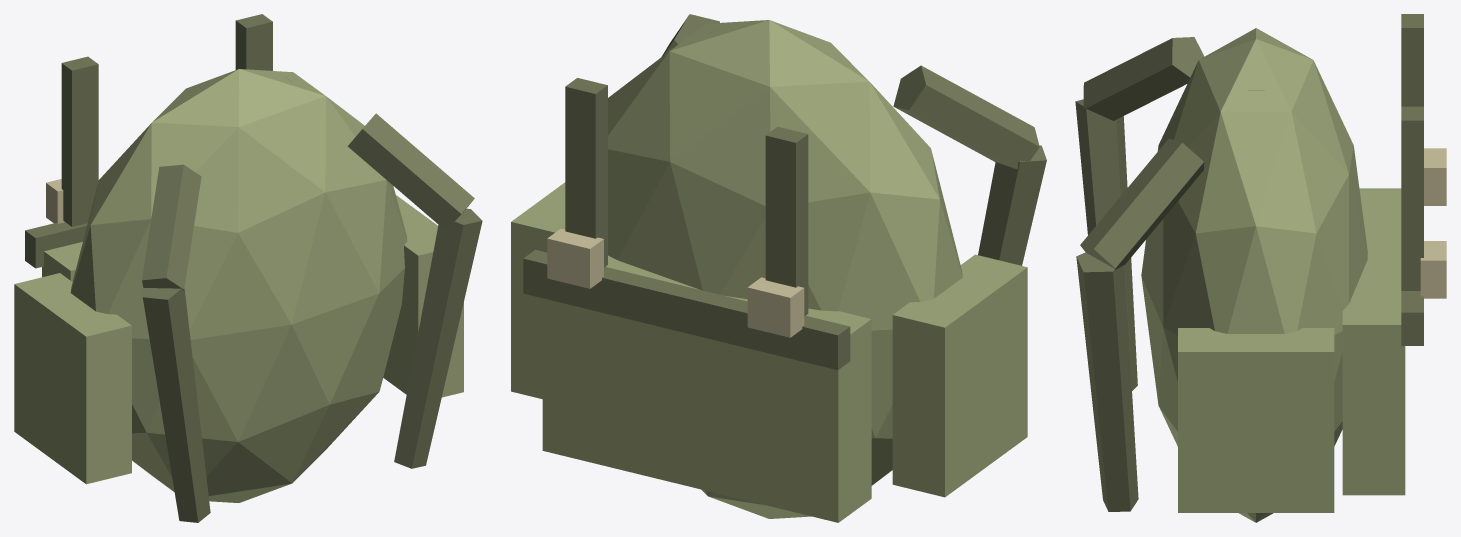
The model's file is Backpack.fbx.
The picture shows the model from 3 angles, left to right: view 1: azimuth 30°, elevation 25°; view 2: azimuth 150°, elevation 25°; view 3: azimuth 270°, elevation 25°; orthographic projection. The views are drawn at different scales.
Parts seen in each view (by area): view 1: BackpackBody, SidePocket.001, ShoulderLoop, ShoulderLoop.001, FrontStrap.001, SidePocket, ShoulderTop, ShoulderTop.001, FrontStrap, PocketFlap, FrontPocket, Buckle.001; view 2: BackpackBody, FrontPocket, SidePocket.001, PocketFlap, ShoulderTop.001, FrontStrap.001, FrontStrap, SidePocket, ShoulderLoop.001, Buckle.001, Buckle, ShoulderTop; view 3: BackpackBody, SidePocket, FrontPocket, ShoulderLoop, ShoulderTop, ShoulderTop.001, ShoulderLoop.001, FrontStrap, FrontStrap.001, Buckle, Buckle.001, PocketFlap.
Part boxes in pixels (box(x1,y1,x2,y2)): BackpackBody: box(70, 69, 407, 502); SidePocket.001: box(14, 273, 131, 484); ShoulderLoop: box(394, 208, 482, 468); ShoulderLoop.001: box(142, 288, 210, 522); FrontStrap.001: box(61, 56, 98, 226); SidePocket: box(383, 195, 463, 397); ShoulderTop: box(347, 113, 474, 229); ShoulderTop.001: box(142, 164, 201, 290); FrontStrap: box(235, 14, 272, 70); PocketFlap: box(25, 222, 87, 268); FrontPocket: box(42, 242, 82, 281); Buckle.001: box(46, 179, 64, 223); BackpackBody: box(608, 20, 962, 518); FrontPocket: box(542, 255, 871, 522); SidePocket.001: box(892, 254, 1027, 497); PocketFlap: box(523, 250, 850, 370); ShoulderTop.001: box(893, 65, 1039, 171); FrontStrap.001: box(765, 126, 808, 316); FrontStrap: box(565, 78, 607, 267); SidePocket: box(511, 182, 565, 399); ShoulderLoop.001: box(978, 145, 1046, 265); Buckle.001: box(747, 277, 804, 337); Buckle: box(547, 228, 603, 288); ShoulderTop: box(661, 14, 719, 56); BackpackBody: box(1141, 28, 1367, 522); SidePocket: box(1178, 328, 1334, 512); FrontPocket: box(1342, 188, 1405, 495); ShoulderLoop: box(1076, 252, 1138, 511); ShoulderTop: box(1080, 139, 1204, 269); ShoulderTop.001: box(1083, 37, 1204, 120); ShoulderLoop.001: box(1075, 99, 1137, 390); FrontStrap: box(1401, 106, 1423, 290); FrontStrap.001: box(1401, 14, 1423, 106); Buckle: box(1420, 241, 1446, 298); Buckle.001: box(1424, 148, 1446, 205); PocketFlap: box(1401, 291, 1423, 345).
Size of the model in its own units: 0.455 by 0.5 by 0.3557.
